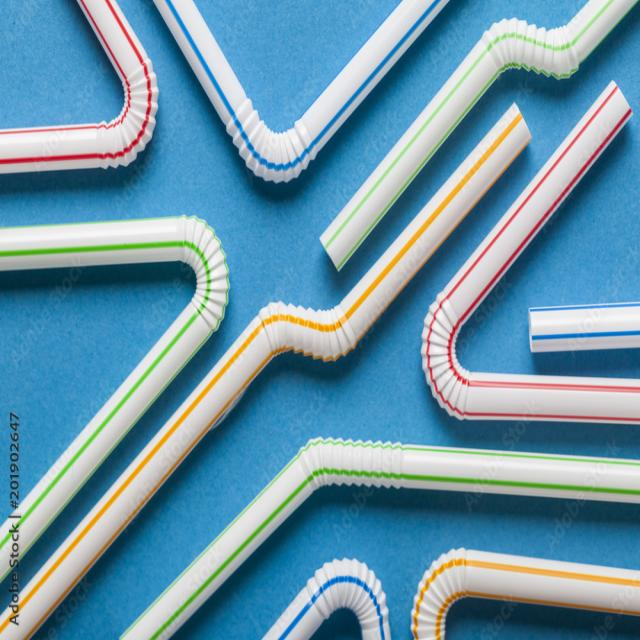plastic: (139, 0, 455, 191)
